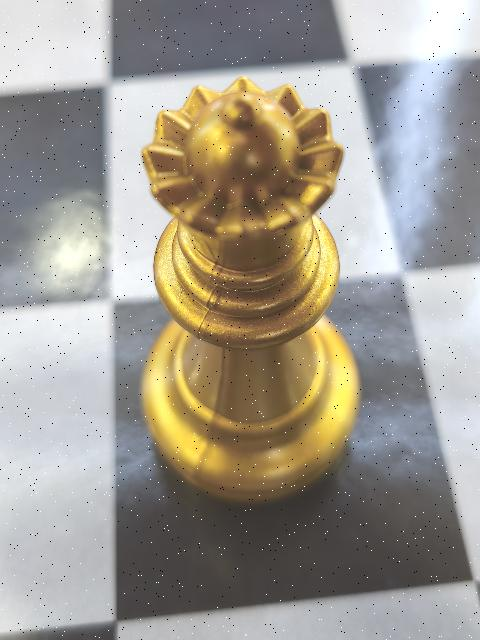black_queen: (144, 75, 361, 498)
